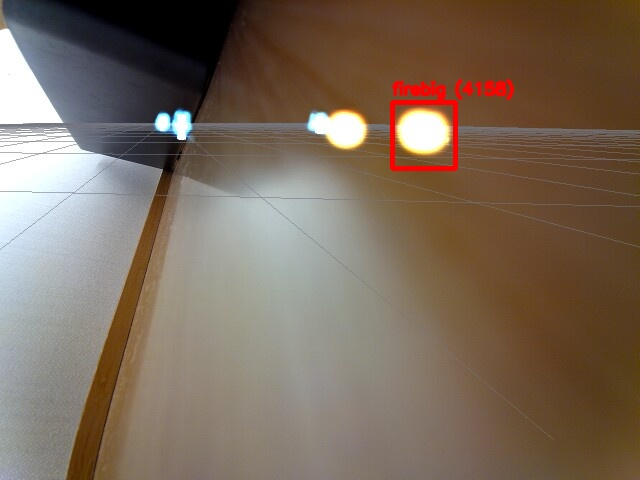firebig: (392, 102, 455, 168)
